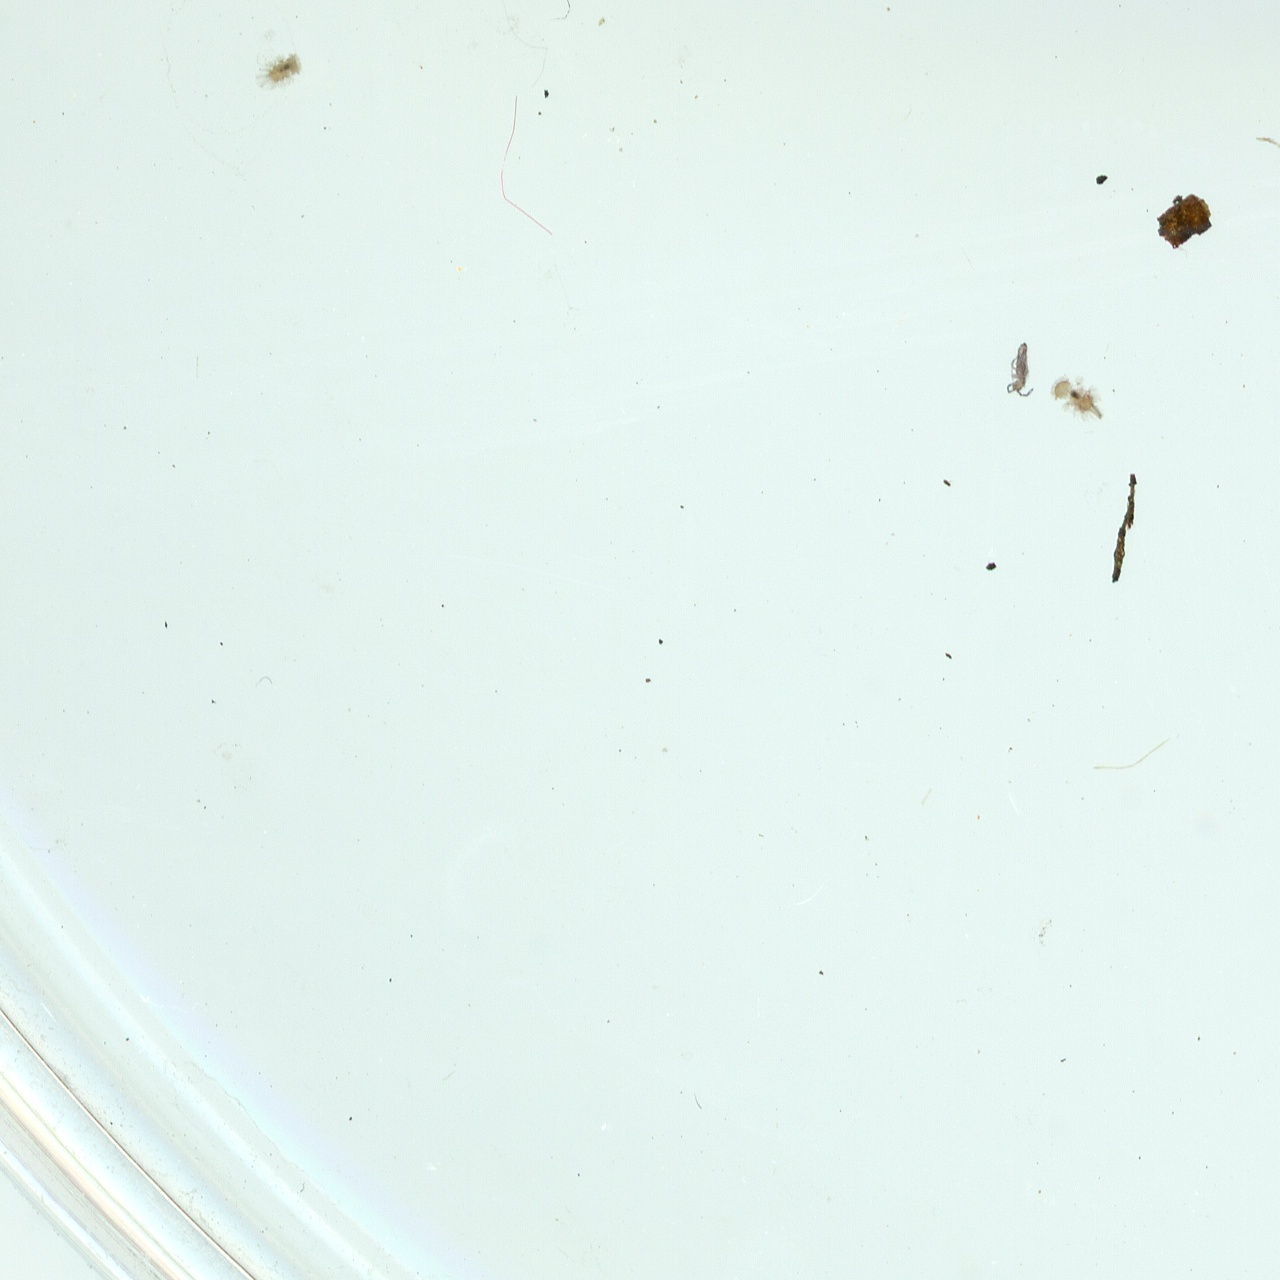arthropod: (1047, 368, 1109, 427), (253, 49, 307, 93), (1005, 338, 1036, 399)
